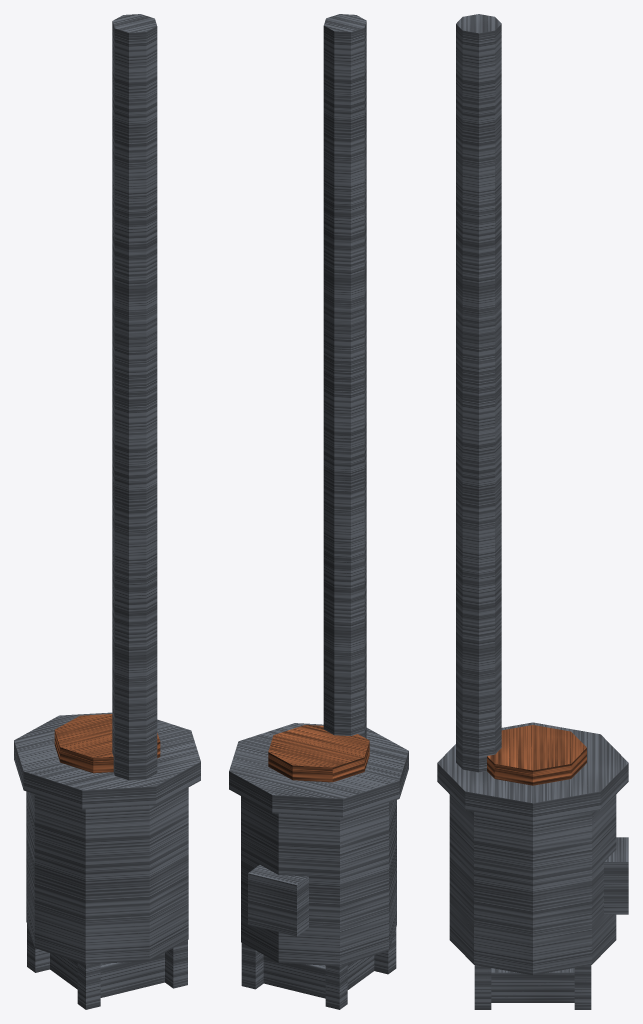
Rendered from coal_stove.fbx.
3 renders of one model, left to right at view 1: azimuth 30°, elevation 25°; view 2: azimuth 150°, elevation 25°; view 3: azimuth 270°, elevation 25°, orthographic. The views are drawn at different scales.
Parts seen in each view (by area): view 1: coal_stove; view 2: coal_stove; view 3: coal_stove.
Part boxes in pixels (x1,y1,x2,y2): coal_stove: (14,14,200,1009); coal_stove: (229,14,408,1009); coal_stove: (437,14,628,1009).
Size of the model in its own units: 46 by 255 by 46.
